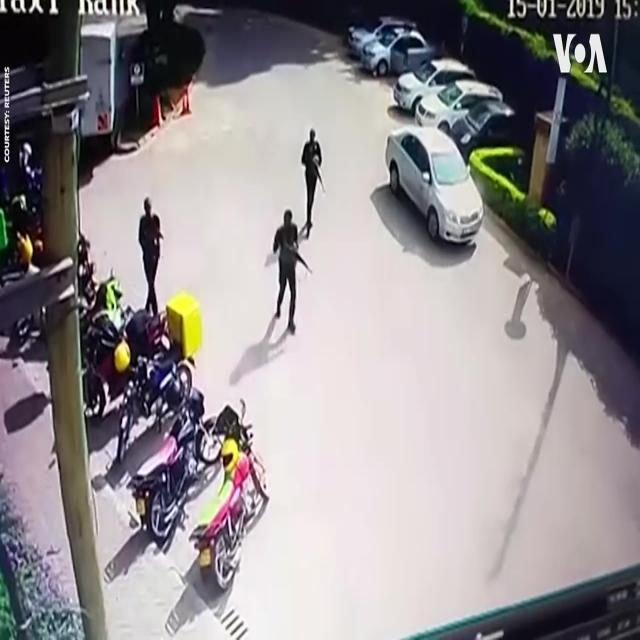Weapon: (284, 230, 316, 286), (150, 210, 179, 265), (310, 144, 329, 197)
